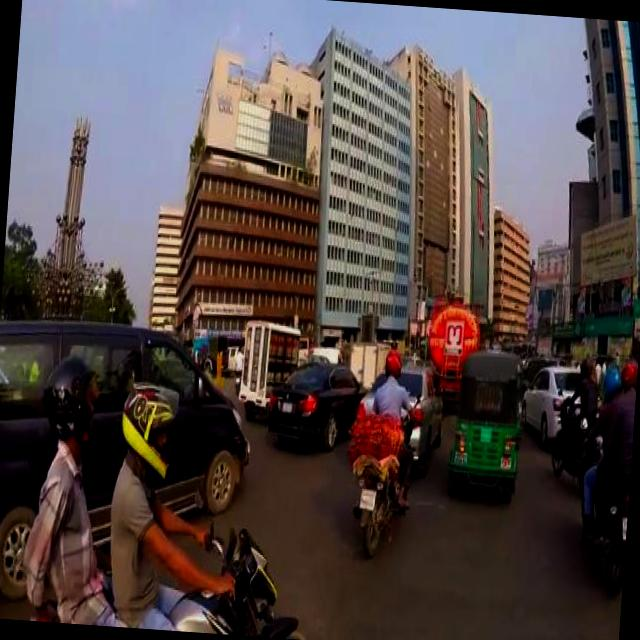car: (354, 356, 448, 460), (268, 354, 364, 448), (520, 357, 584, 437)
motorcycle: (351, 380, 426, 554), (198, 518, 306, 636), (448, 342, 528, 486), (570, 409, 634, 586), (550, 394, 605, 476)
truck: (0, 313, 255, 614), (426, 294, 485, 402), (350, 338, 390, 387)
